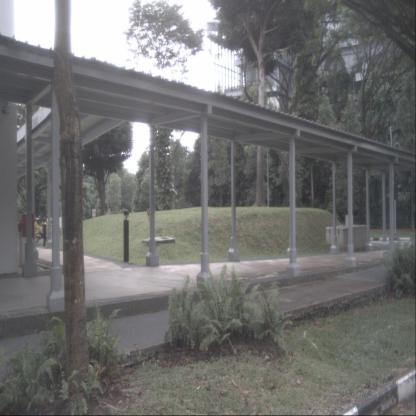vehicle-bicycle: (30, 215, 54, 245)
